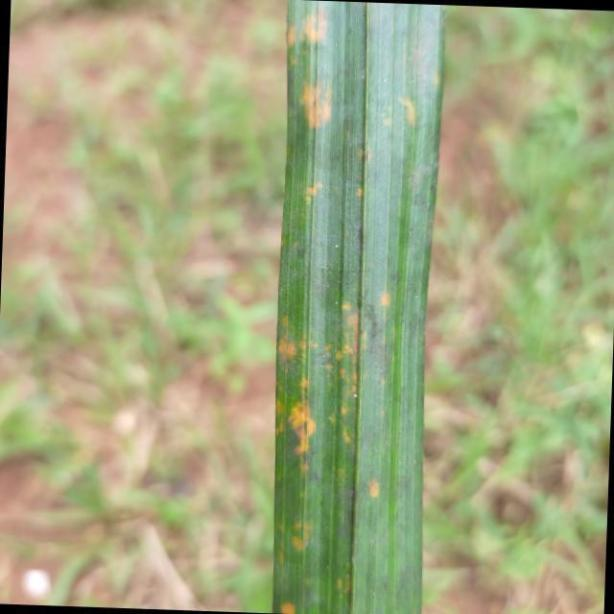Kalium: (272, 0, 436, 614)
